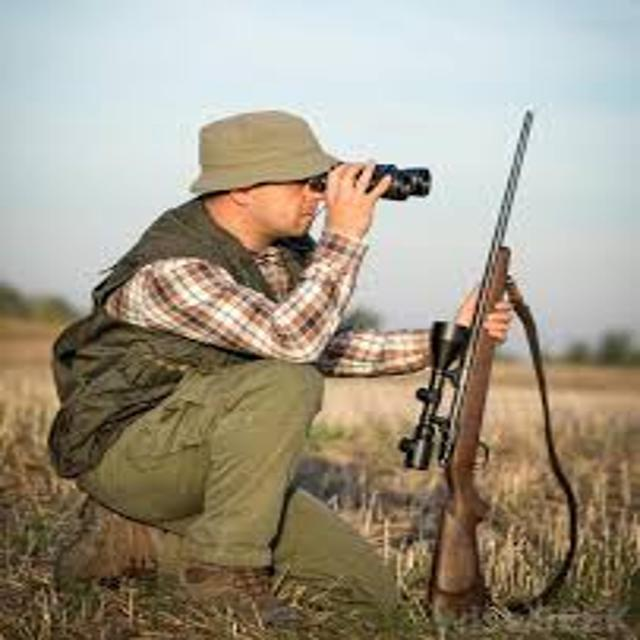gun: (381, 95, 583, 628)
poacher: (35, 76, 512, 628)
